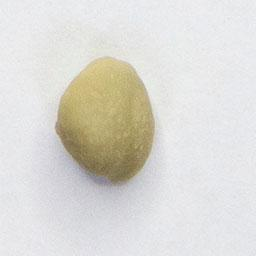defect: (52, 52, 157, 189)
